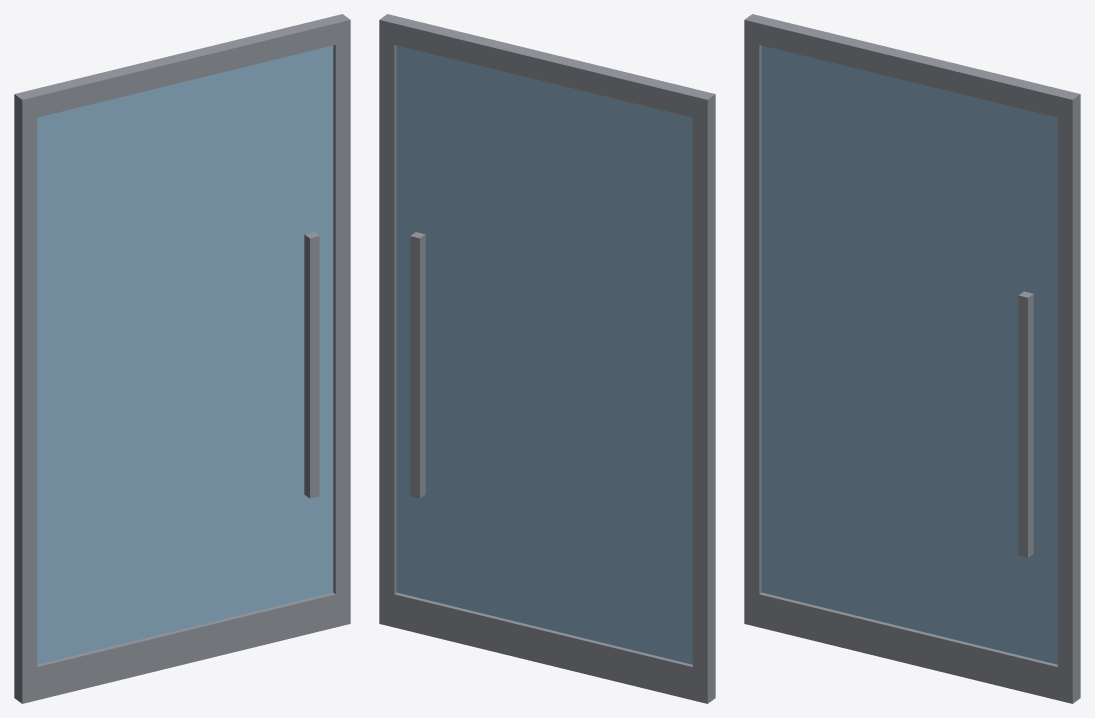
Rendered from SM_Door_glass_120x210.fbx.
The picture shows the model from 3 angles, left to right: view 1: azimuth 30°, elevation 25°; view 2: azimuth 150°, elevation 25°; view 3: azimuth 330°, elevation 25°; orthographic projection.
Visible parts, largest first — view 1: SM_Door_glass_120x210; view 2: SM_Door_glass_120x210; view 3: SM_Door_glass_120x210.
Part boxes in pixels (x1=…): SM_Door_glass_120x210: x1=14, y1=14, x2=350, y2=703; SM_Door_glass_120x210: x1=379, y1=14, x2=715, y2=703; SM_Door_glass_120x210: x1=744, y1=14, x2=1080, y2=703.
Bounding box in the file's own units: 1.19 × 2.09 × 0.135.
